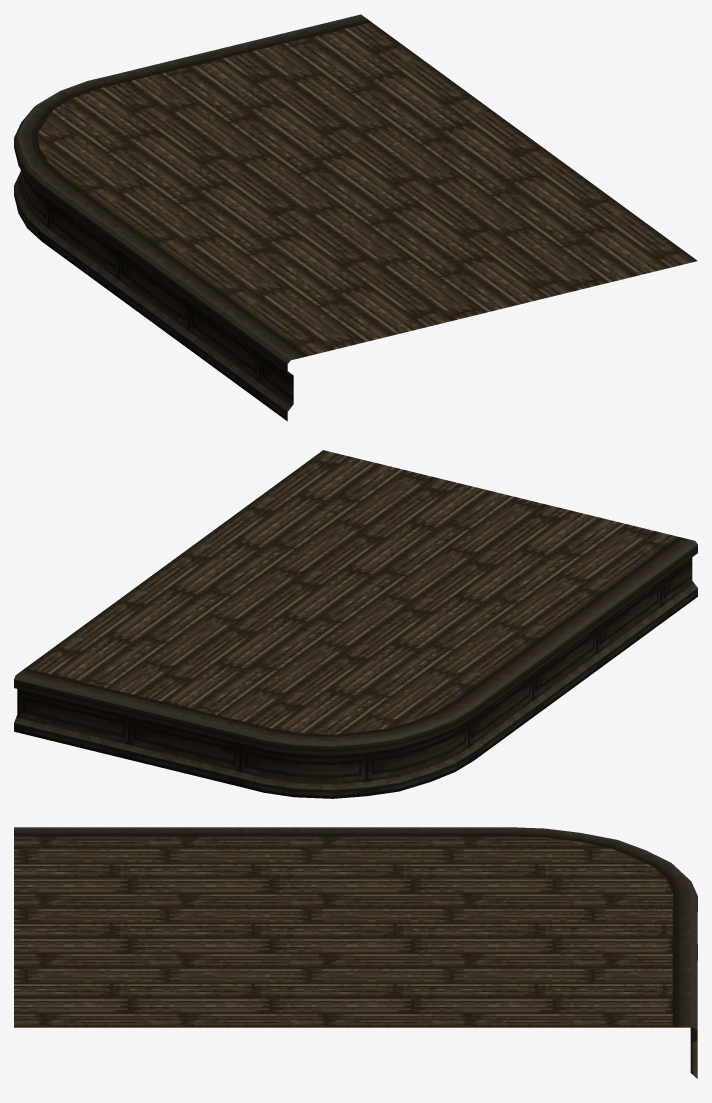
The model's file is EnvBdgMD_Forest_A_Indoor_House_C_Stage.FBX.
3 renders of one model, top to bottom at view 1: azimuth 30°, elevation 25°; view 2: azimuth 150°, elevation 25°; view 3: azimuth 270°, elevation 25°, orthographic. The views are drawn at different scales.
Visible parts, largest first — view 1: EnvBdgMD_Forest_A_Indoor_House_C_Stage; view 2: EnvBdgMD_Forest_A_Indoor_House_C_Stage; view 3: EnvBdgMD_Forest_A_Indoor_House_C_Stage.
Part boxes in pixels (x1=…): EnvBdgMD_Forest_A_Indoor_House_C_Stage: x1=14, y1=14, x2=697, y2=421; EnvBdgMD_Forest_A_Indoor_House_C_Stage: x1=14, y1=450, x2=697, y2=798; EnvBdgMD_Forest_A_Indoor_House_C_Stage: x1=14, y1=827, x2=697, y2=1078.
Bounding box in the file's own units: 675 × 95 × 966.
